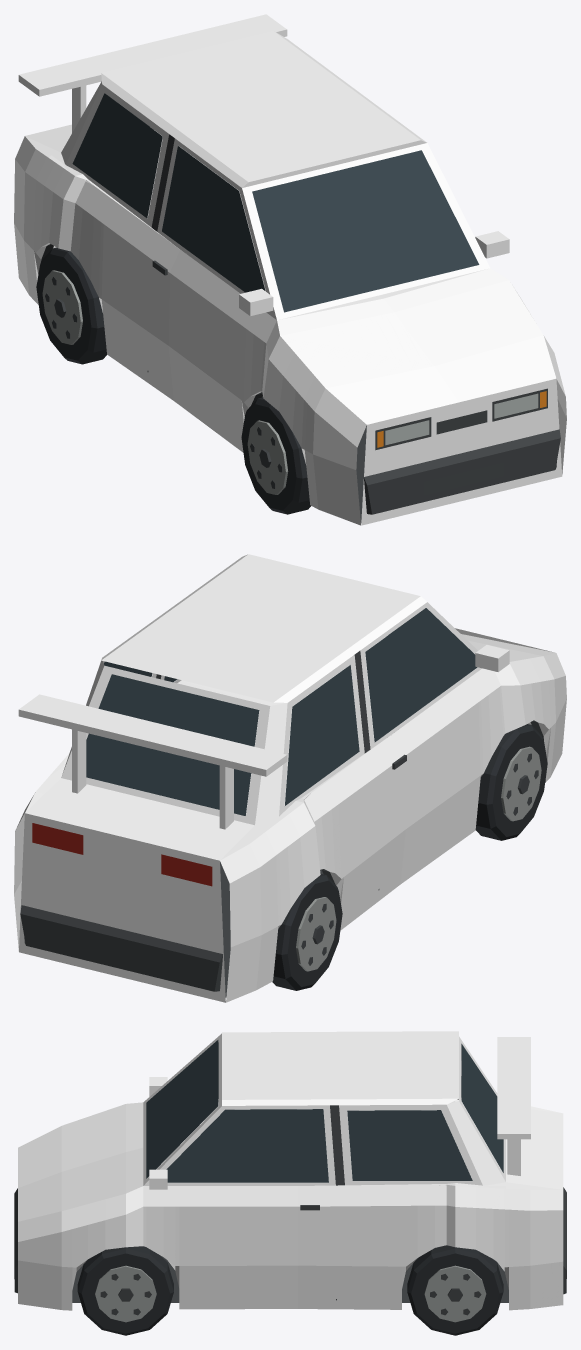
The model's file is garrison_tumbleweed_corrida.glb.
The picture shows the model from 3 angles, top to bottom: view 1: azimuth 30°, elevation 25°; view 2: azimuth 150°, elevation 25°; view 3: azimuth 270°, elevation 25°; orthographic projection. The views are drawn at different scales.
Parts seen in each view (by area): view 1: garrison_tumbleweed_corrida; view 2: garrison_tumbleweed_corrida; view 3: garrison_tumbleweed_corrida.
Boxes of the visible parts, x1,y1,x2,y2 form: garrison_tumbleweed_corrida: (14,14,566,525); garrison_tumbleweed_corrida: (14,554,566,1002); garrison_tumbleweed_corrida: (14,1031,566,1335).
Bounding box in the file's own units: 1.6 × 1.62 × 3.64.
Materials: 8 (1 with a texture image).
